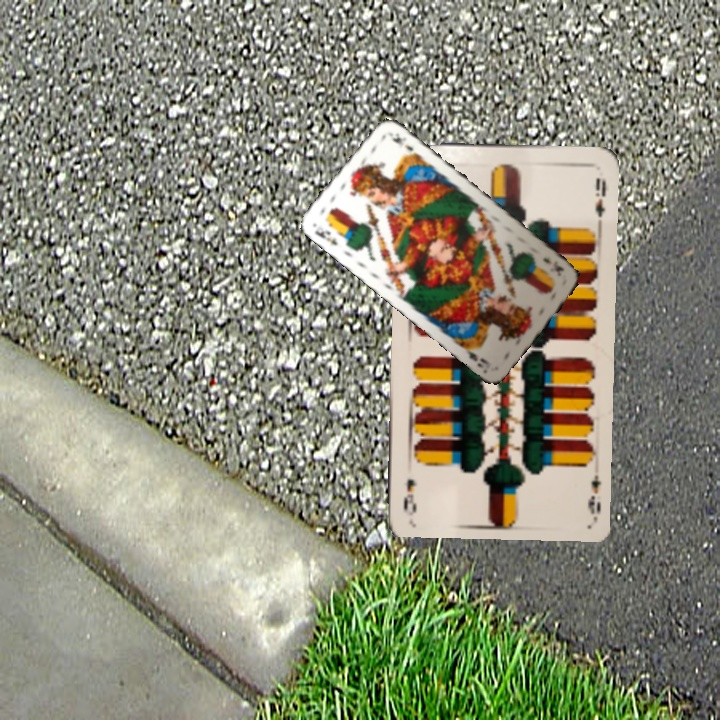E9: (583, 471, 604, 517)
EK: (539, 253, 566, 279), (310, 226, 341, 248)
